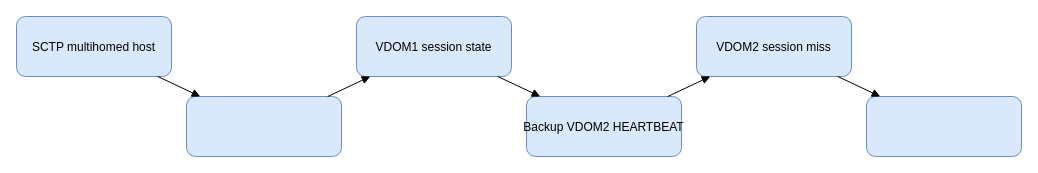
Some shapes in this 1038 by 173 pixel diagram are drawn without their labels. The centre of each missing label's shape, as x and y in pixels:
"Primary VDOM1 INIT" belongs at (x=264, y=126).
"Remote SCTP peer" belongs at (x=944, y=126).
